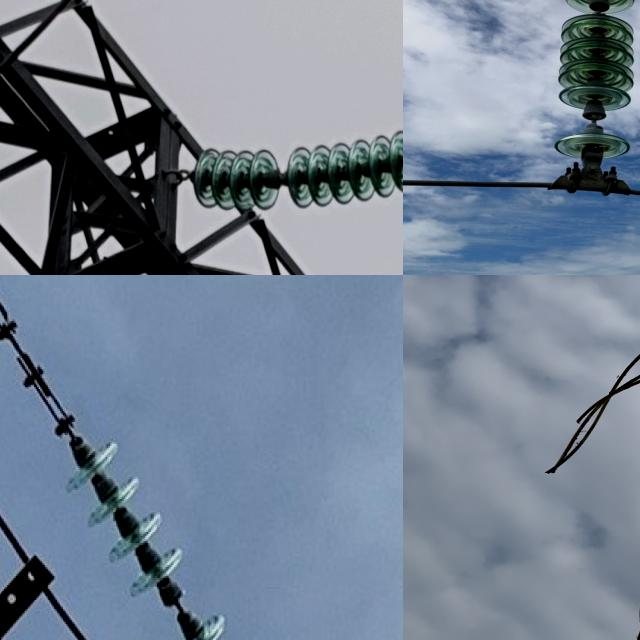正常电缆: (403, 169, 640, 205)
正常绝缘子: (28, 396, 250, 640), (172, 113, 403, 217), (545, 0, 640, 197)
电缆破损: (515, 275, 640, 497)
绝缘子破损: (155, 585, 200, 626), (582, 106, 606, 131), (272, 168, 285, 189), (589, 0, 610, 13)
